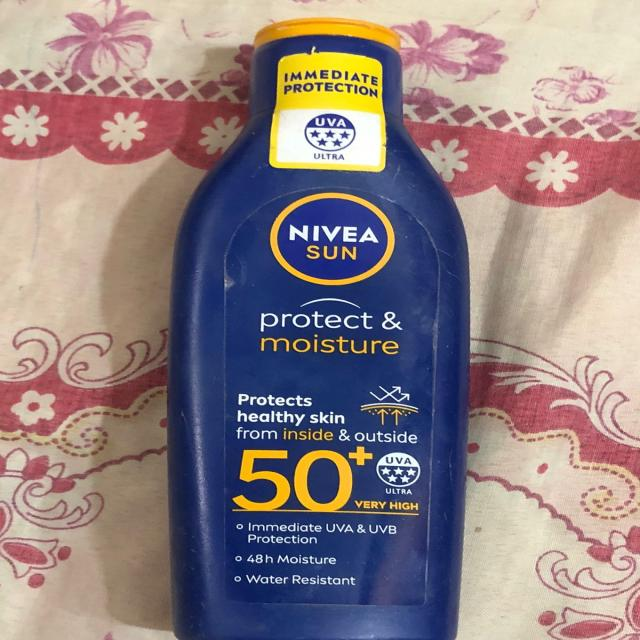sun block: (153, 5, 570, 640)
